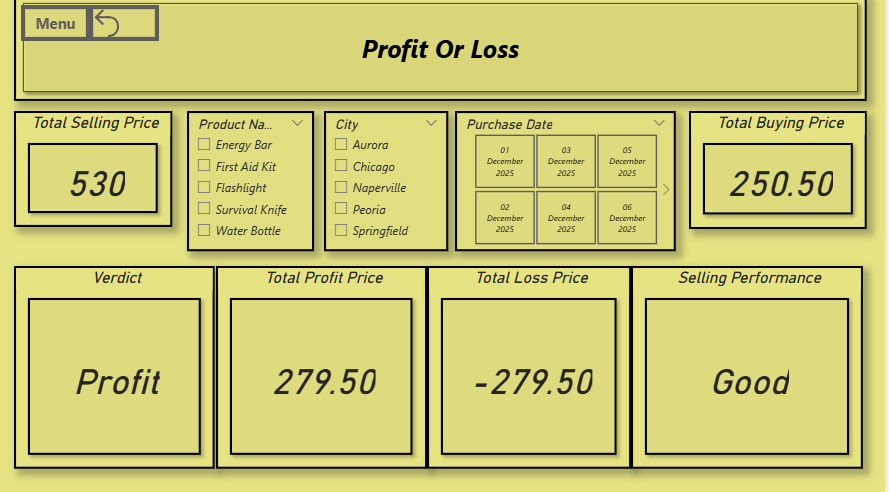

The dashboard page shown, as its layout file describes it:
{"tool":"powerbi","page":{"name":"Profit Or Loss","canvas":[1280,720],"ordinal":4},"visuals":[{"type":"shape","box":[24.5,0,1228.3,154.1],"z":0},{"type":"slicer","fields":{"Values":["Apocolyse_sales.Product_name"]},"box":[273.6,168.5,182.9,201.6],"z":1000},{"type":"slicer","fields":{"Values":["Apocolyse_sales.customer_city"]},"box":[470.9,168.5,178.6,201.6],"z":2000},{"type":"slicer","fields":{"Values":["Apocolyse_sales.date_purchase"]},"box":[659.5,168.5,318.2,201.6],"z":3000},{"type":"cardVisual","title":"Total Buying Price","fields":{"Data":["Sum(Apocolyse_sales.Buying_price)"]},"box":[996.5,168.5,256.3,169.9],"z":4000},{"type":"cardVisual","title":"Total Selling Price","fields":{"Data":["Sum(Apocolyse_sales.Selling_price)"]},"box":[24.5,168.5,227.5,167],"z":5000},{"type":"cardVisual","title":"Verdict","fields":{"Data":["Min(Apocolyse_sales.Verdict)"]},"box":[24.5,391.7,289.4,292.3],"z":6000},{"type":"cardVisual","title":"Total Profit Price","fields":{"Data":["Sum(Apocolyse_sales.Profit_Price)"]},"box":[315.4,391.7,303.8,292.3],"z":7000},{"type":"cardVisual","title":"Total Loss Price","fields":{"Data":["Sum(Apocolyse_sales.Loss_Price)"]},"box":[619.2,391.7,293.8,292.3],"z":8000},{"type":"cardVisual","title":"Selling Performance","fields":{"Data":["Min(Apocolyse_sales.Selling_Performance)"]},"box":[913,391.7,334.1,292.3],"z":9000},{"type":"actionButton","box":[34.6,15.8,99.4,51.8],"z":11000},{"type":"actionButton","box":[132.5,15.8,100.8,51.8],"z":12000}]}

Visuals, with their boxes in screenshot pixels (x1, y1, x2, y2), scaled from the page's 1280x720 canvas onto the 889x492 screenshot:
shape: BBox(17, 0, 870, 105)
slicer - Apocolyse_sales.Product_name: BBox(190, 115, 317, 253)
slicer - Apocolyse_sales.customer_city: BBox(327, 115, 451, 253)
slicer - Apocolyse_sales.date_purchase: BBox(458, 115, 679, 253)
"Total Buying Price" cardVisual: BBox(692, 115, 870, 231)
"Total Selling Price" cardVisual: BBox(17, 115, 175, 229)
"Verdict" cardVisual: BBox(17, 268, 218, 467)
"Total Profit Price" cardVisual: BBox(219, 268, 430, 467)
"Total Loss Price" cardVisual: BBox(430, 268, 634, 467)
"Selling Performance" cardVisual: BBox(634, 268, 866, 467)
actionButton: BBox(24, 11, 93, 46)
actionButton: BBox(92, 11, 162, 46)
